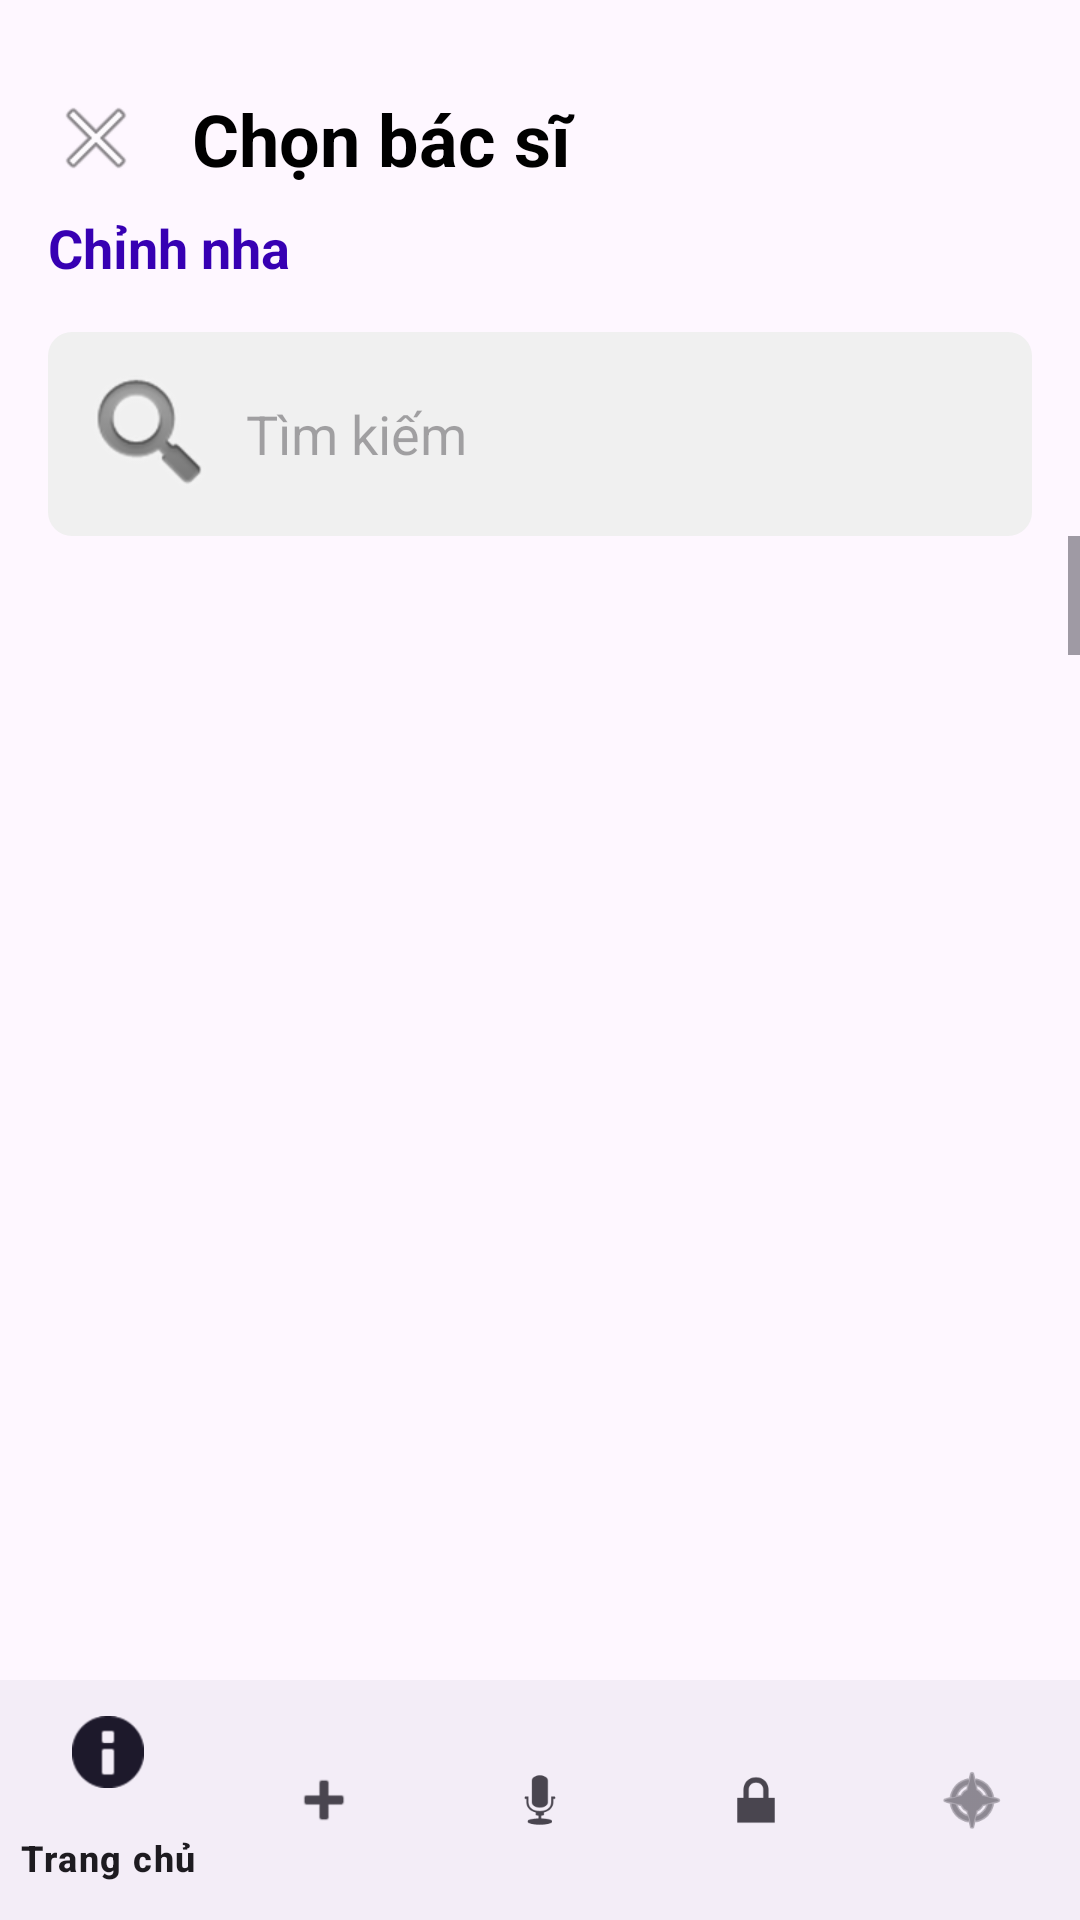

Point at icon controls on the screen. Image size 1080*1920, points as (x,y).
Quay lại: (96,138)
